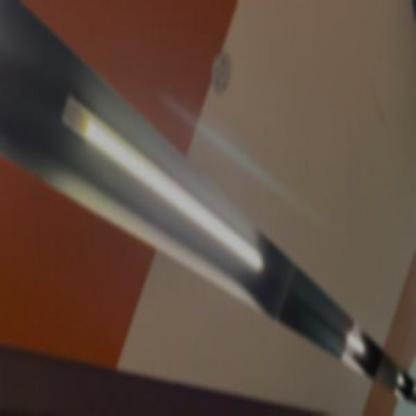light_on: (55, 81, 268, 281), (338, 311, 370, 382), (392, 361, 408, 410)
